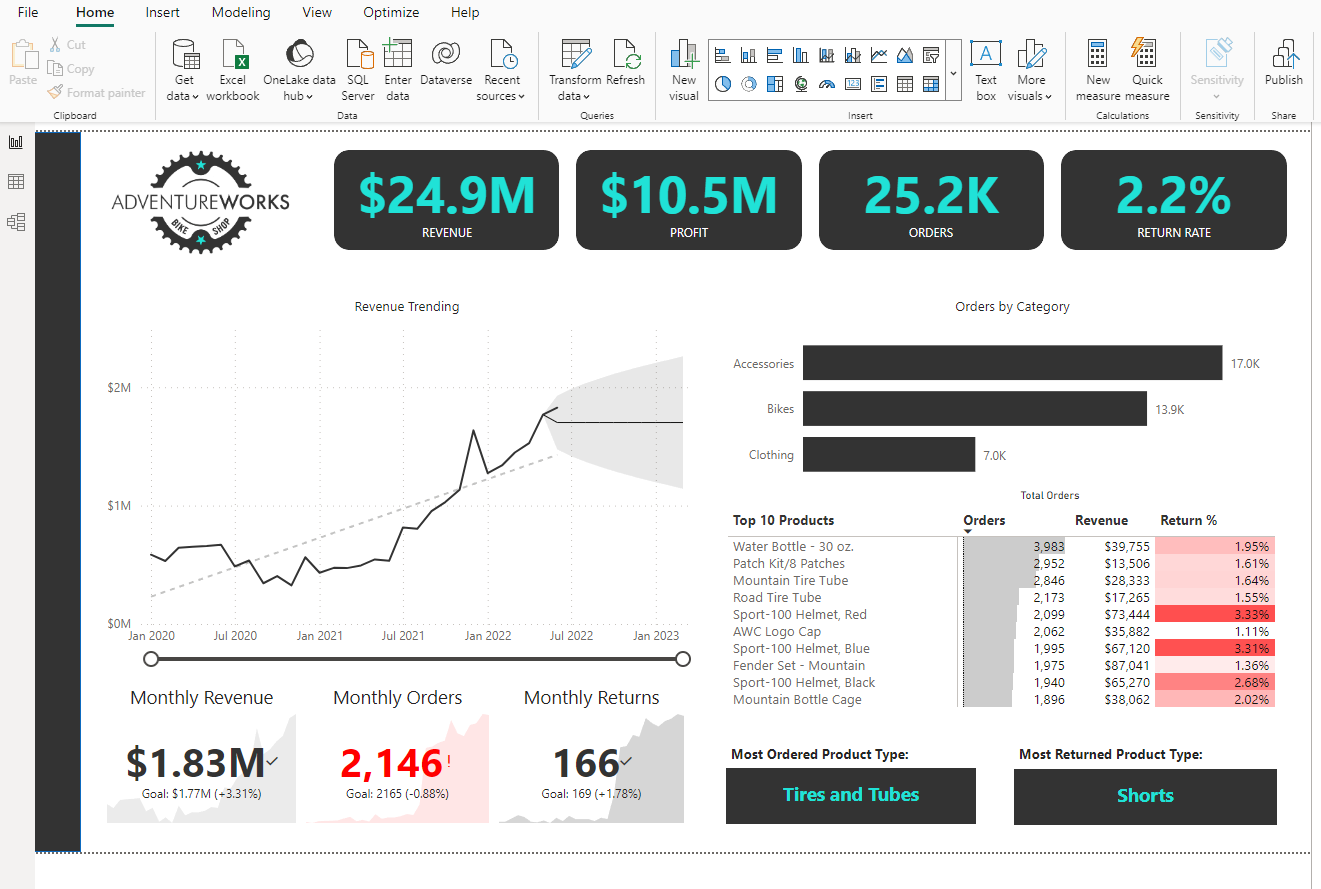

The page's visual inventory and layout, read from the dashboard file:
{"tool":"powerbi","page":{"name":"Exec Dashboard","canvas":[1280,720],"ordinal":0},"visuals":[{"type":"image","title":"AW Logo","box":[0,11,339,119],"z":0},{"type":"shape","title":"KPI BG 4","box":[303,18,225,100],"z":0,"group":"g2"},{"type":"shape","title":"Left Nav BG","box":[0,0,50,720],"z":1000},{"type":"shape","title":"KPI BG 3","box":[545.3,18.3,225.2,100.2],"z":1000,"group":"g2"},{"type":"group","id":"g1","title":"KPIs","box":[287,0,985,135],"z":2000},{"type":"group","id":"g2","title":"KPI BGs","box":[303,18,952.6,100.5],"z":2000,"group":"g1"},{"type":"shape","title":"KPI BG 2","box":[787.8,18.3,225.2,100.2],"z":2000,"group":"g2"},{"type":"card","title":"Return Rate","fields":{"Values":["Measure Table.Return Rate"]},"box":[1014,0,258,135],"z":3000,"group":"g3"},{"type":"lineChart","title":"Revenue Trending","fields":{"Y":["Measure Table.Total Revenue"],"Category":["Calendar Lookup.Start of Year","Calendar Lookup.Start of Quarter","Calendar Lookup.Start of Month"]},"box":[71,165,610,373],"z":3000},{"type":"card","title":"Total Orders","fields":{"Values":["Measure Table.Total Orders"]},"box":[771,0,258,135],"z":4000,"group":"g3"},{"type":"shape","title":"KPI BG 1","box":[1030.3,18.3,225.2,100.2],"z":4000,"group":"g2"},{"type":"kpi","title":"Monthly Revenue","fields":{"Indicator":["Measure Table.Total Revenue"],"TrendLine":["Calendar Lookup.Start of Month"],"Goal":["Measure Table.Previous Month Revenue"]},"box":[70.7,552.5,199,143.6],"z":4000},{"type":"card","title":"Total Profit","fields":{"Values":["Measure Table.Total Profit"]},"box":[529,0,258,135],"z":5000,"group":"g3"},{"type":"kpi","title":"Monthly Orders","fields":{"TrendLine":["Calendar Lookup.Start of Month"],"Indicator":["Measure Table.Total Orders"],"Goal":["Measure Table.Previous Month Orders"]},"box":[269.7,552.5,193.6,143.6],"z":5000},{"type":"card","title":"Total Revenue","fields":{"Values":["Measure Table.Total Revenue"]},"box":[287,0,258,135],"z":5500,"group":"g3"},{"type":"group","id":"g3","title":"KPI Cards","box":[287,0,985,135],"z":5501,"group":"g1"},{"type":"kpi","title":"Monthly Returns","fields":{"TrendLine":["Calendar Lookup.Start of Month"],"Indicator":["Measure Table.Total Returns"],"Goal":["Measure Table.Previous Month Returns"]},"box":[463.3,552.5,194.7,143.6],"z":6000},{"type":"barChart","title":"Orders by Category","fields":{"Category":["Product Category Lookup.CategoryName"],"Y":["Measure Table.Total Orders"]},"box":[691.7,165.3,579.6,208.8],"z":7000},{"type":"pivotTable","fields":{"Values":["Measure Table.Total Orders","Measure Table.Total Revenue","Measure Table.Return Rate"],"Rows":["Product Lookup.ProductName"]},"box":[691.7,374.1,580.7,214.2],"z":8000},{"type":"card","fields":{"Values":["Min(Product Subcategory Lookup.SubcategoryName)"]},"box":[694.9,635.9,250,55.9],"z":9000},{"type":"textbox","box":[694.9,608.4,224.3,39],"z":10000},{"type":"card","fields":{"Values":["Min(Product Subcategory Lookup.SubcategoryName)"]},"box":[983.1,636.8,262.5,55.9],"z":11000},{"type":"textbox","box":[983,608,202,41],"z":12000},{"type":"actionButton","box":[4.4,0,39.9,39.9],"z":13000}]}

Visuals, with their boxes on the page's 1280x720 design canvas (x1, y1, x2, y2). These are canvas units, not pixel positions in the 1321x889 screenshot, which may show the page scaled, cropped or inside an application window:
"AW Logo" image: 0 11 339 130
"KPI BG 4" shape: 303 18 528 118
"Left Nav BG" shape: 0 0 50 720
"KPI BG 3" shape: 545 18 770 118
"KPIs" group: 287 0 1272 135
"KPI BGs" group: 303 18 1256 118
"KPI BG 2" shape: 788 18 1013 118
"Return Rate" card: 1014 0 1272 135
"Revenue Trending" lineChart: 71 165 681 538
"Total Orders" card: 771 0 1029 135
"KPI BG 1" shape: 1030 18 1256 118
"Monthly Revenue" kpi: 71 552 270 696
"Total Profit" card: 529 0 787 135
"Monthly Orders" kpi: 270 552 463 696
"Total Revenue" card: 287 0 545 135
"KPI Cards" group: 287 0 1272 135
"Monthly Returns" kpi: 463 552 658 696
"Orders by Category" barChart: 692 165 1271 374
pivotTable - Measure Table.Total Orders x Measure Table.Total Revenue: 692 374 1272 588
card - Min(Product Subcategory Lookup.SubcategoryName): 695 636 945 692
textbox: 695 608 919 647
card - Min(Product Subcategory Lookup.SubcategoryName): 983 637 1246 693
textbox: 983 608 1185 649
actionButton: 4 0 44 40
